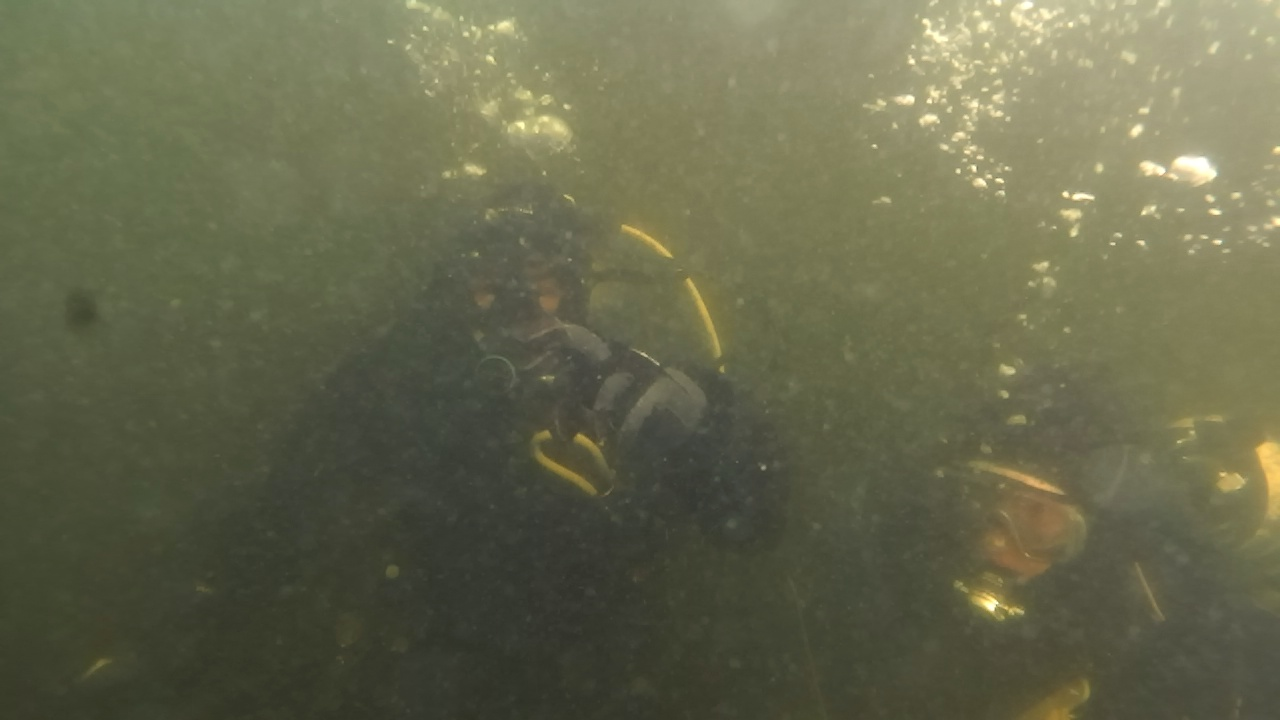Diver: (288, 158, 794, 708), (932, 350, 1276, 714)
Hand: (520, 306, 722, 494)
Head: (932, 390, 1174, 654), (432, 174, 598, 418)
